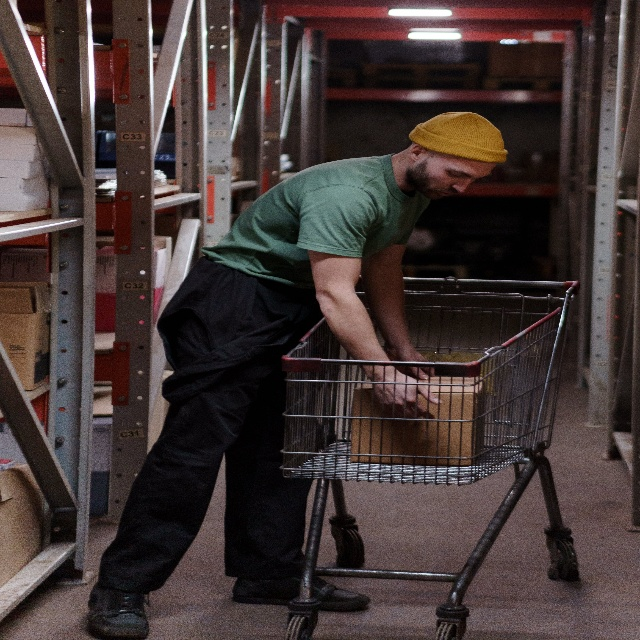Sin_guantes: (373, 362, 441, 427), (388, 339, 437, 381)
